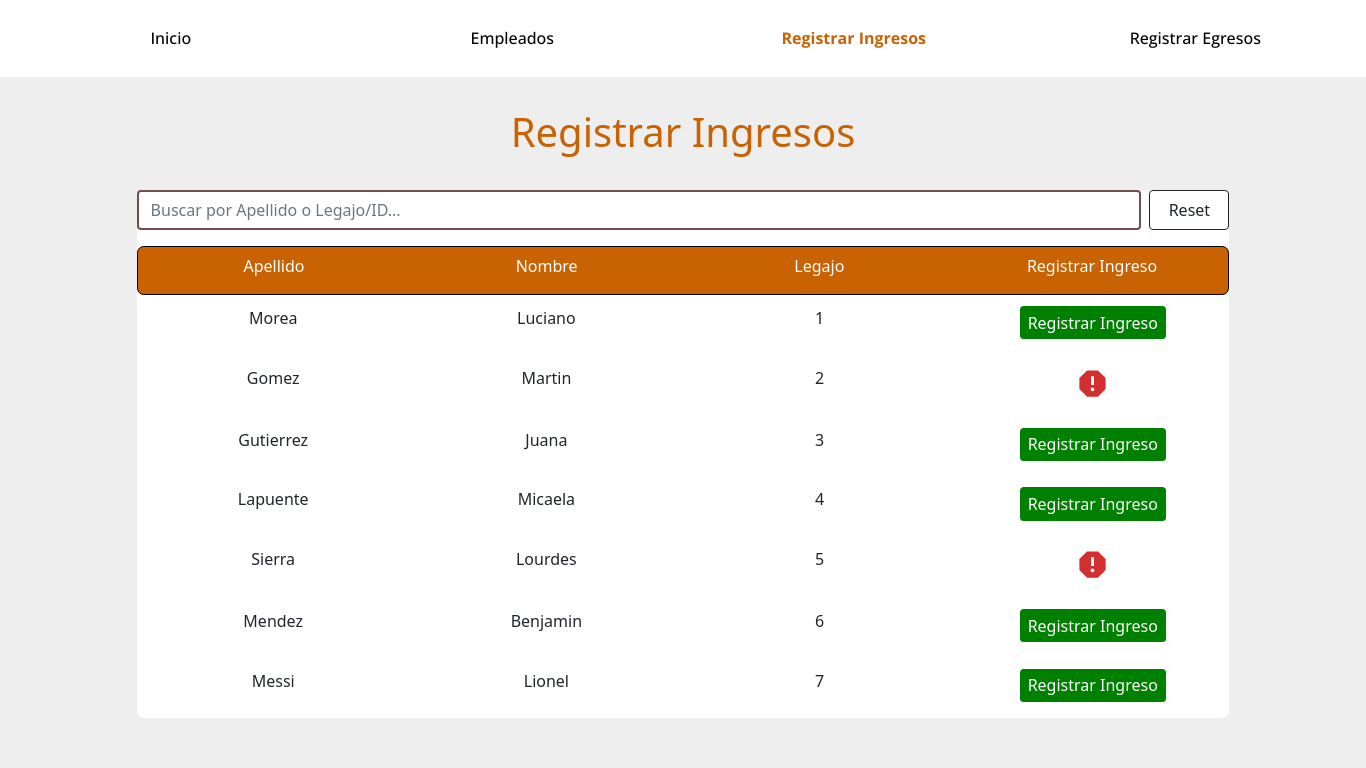
Test: Ingresos › search by id and click button Registrar
Click the link "Registrar Ingresos" at (854,38), box [782, 26, 926, 50]
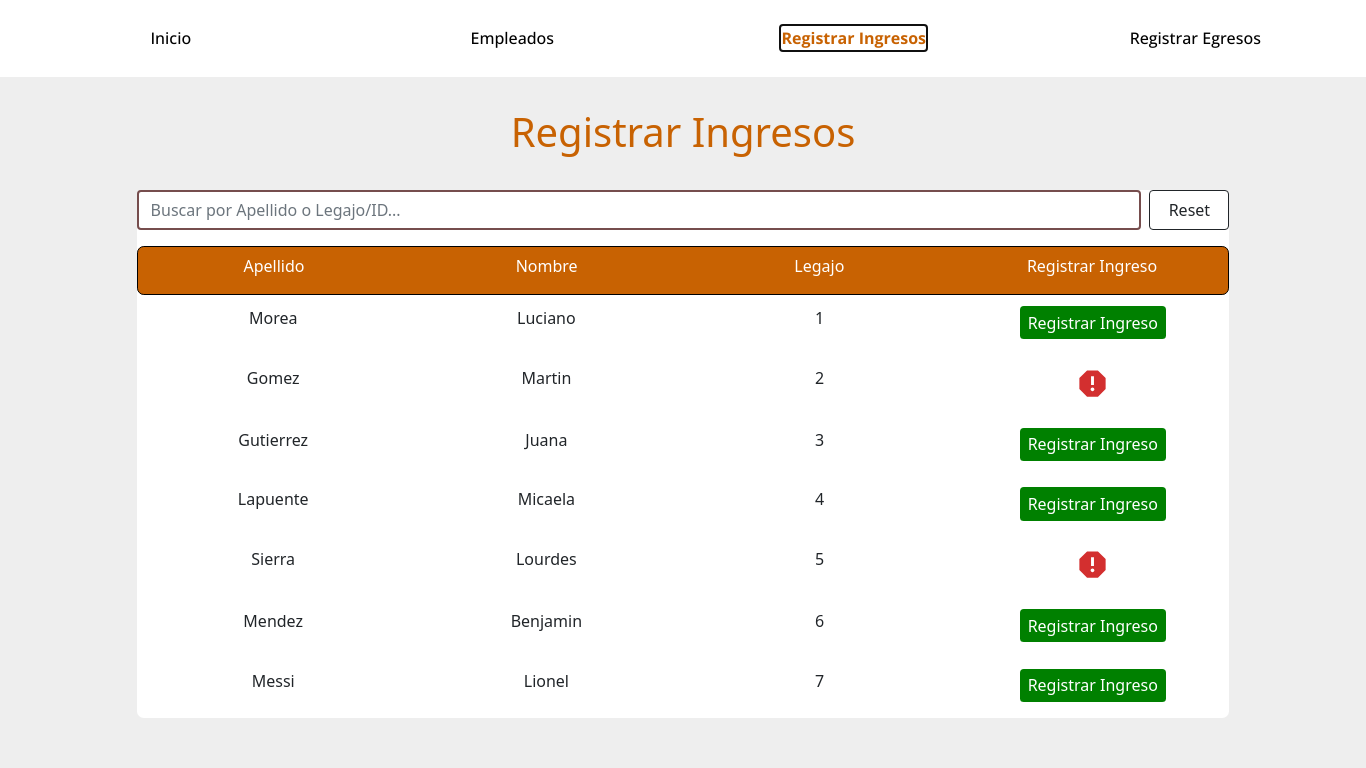
Type "4" into the search field named "search" at (639,210), box [137, 190, 1141, 230]
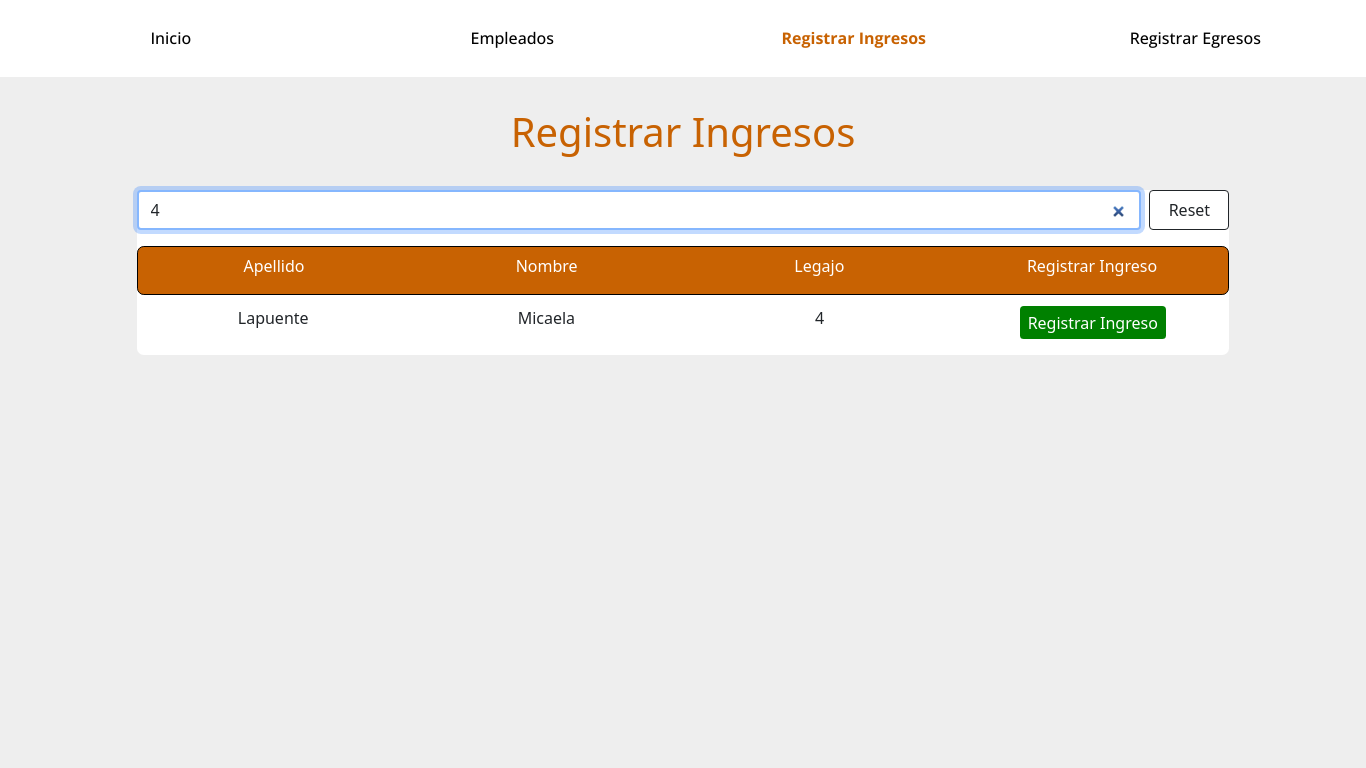
Click the button "Registrar Ingreso" at (1093,323), box [1020, 306, 1166, 339]
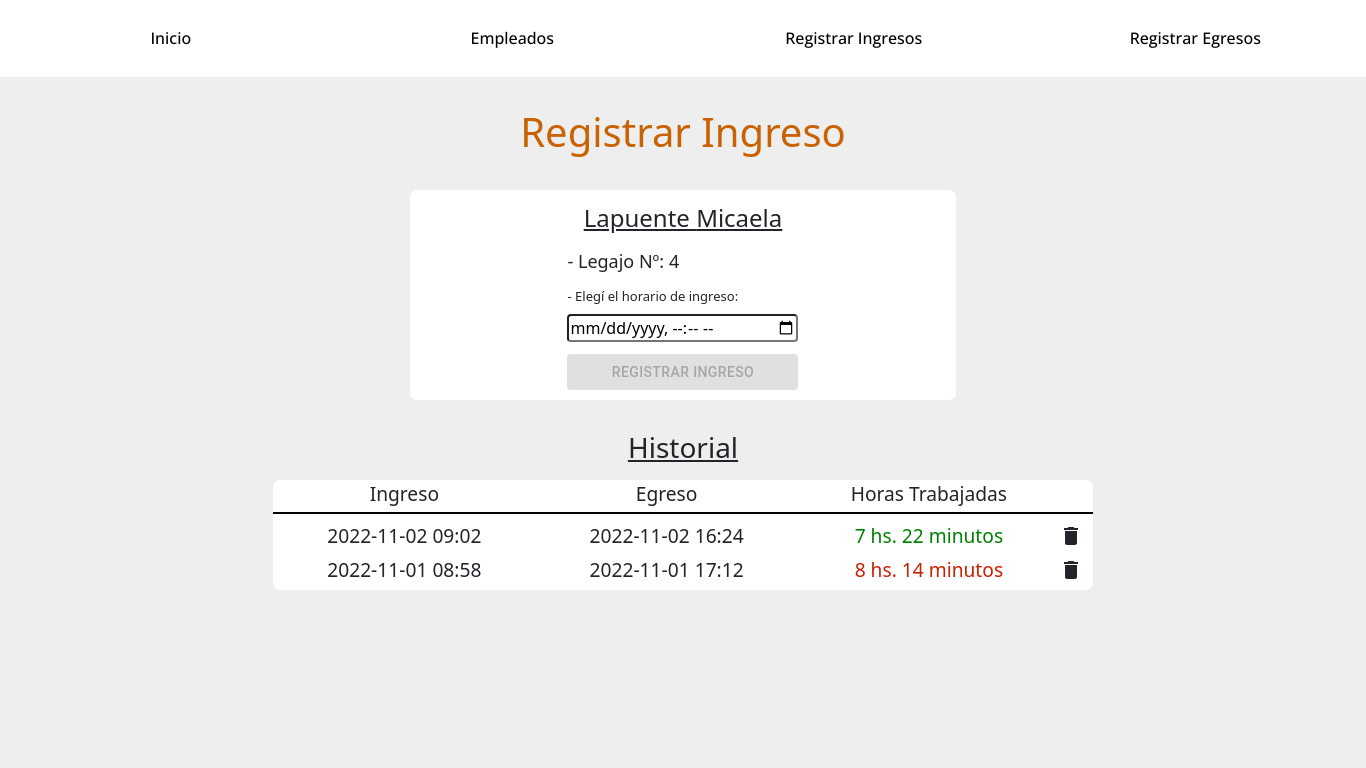
Now the text "- Legajo Nº: 4" is shown, box [568, 249, 679, 273]
Now the text "- Elegí el horario de ingreso:" is shown, box [568, 287, 738, 305]
Now the heading "Historial" is shown, box [628, 428, 738, 466]
